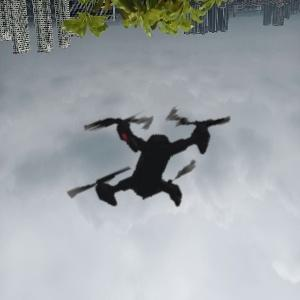drone: (26, 32, 276, 282)
